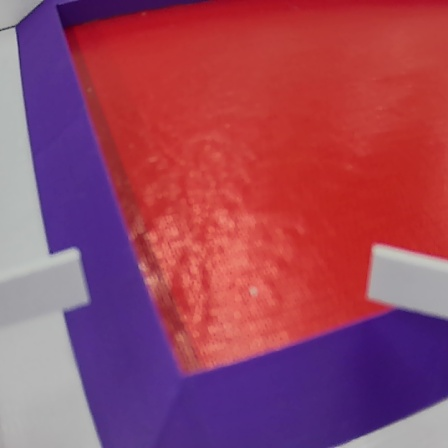red_aim: (15, 0, 448, 448)
